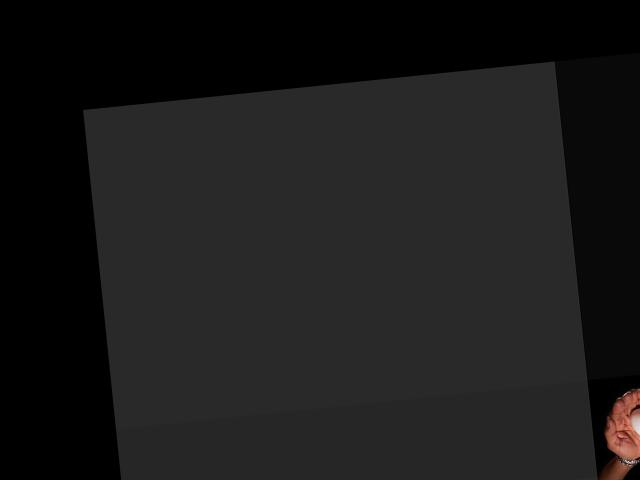egg: (628, 405, 640, 441)
